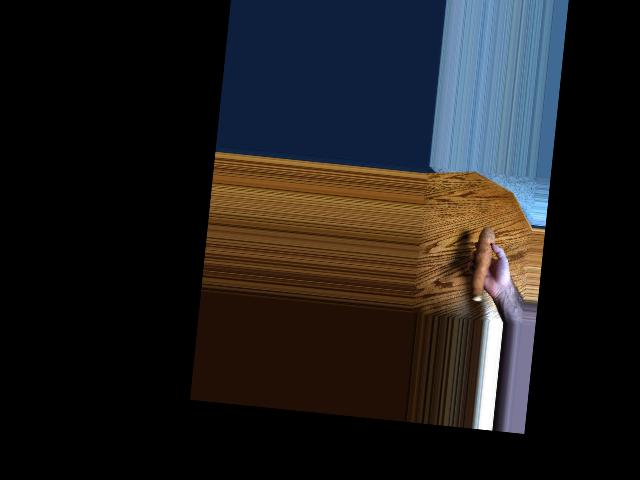sweet_potato: (466, 225, 492, 296)
